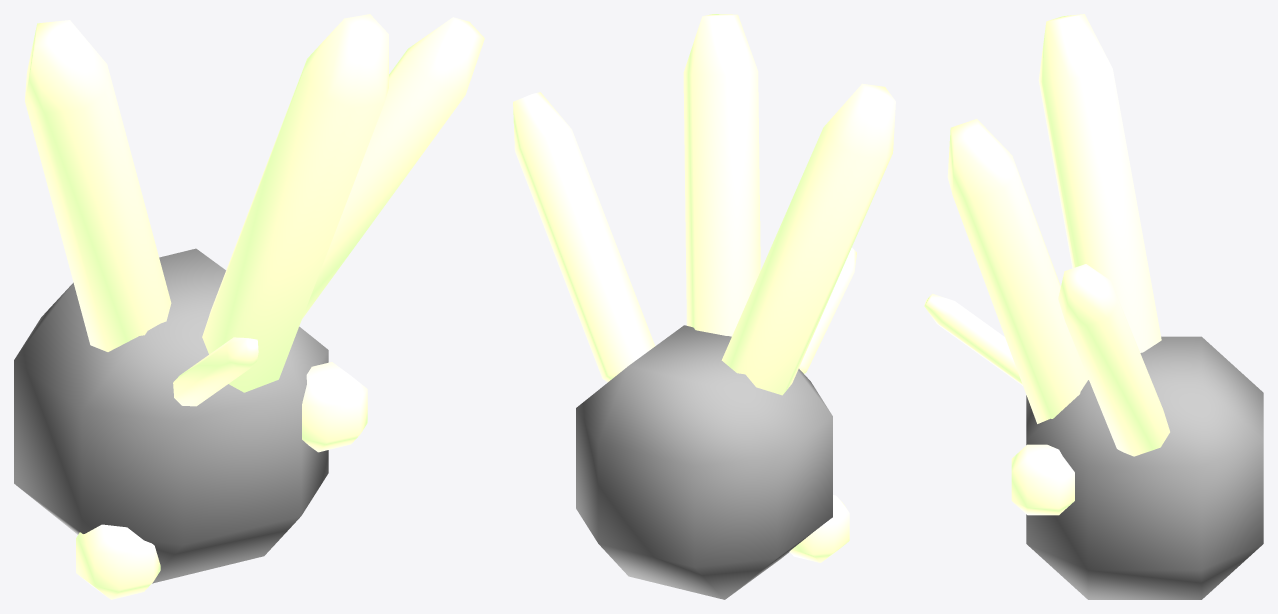
The model's file is CrystalRod02.fbx.
3 renders of one model, left to right at view 1: azimuth 30°, elevation 25°; view 2: azimuth 150°, elevation 25°; view 3: azimuth 270°, elevation 25°, orthographic. The views are drawn at different scales.
Visible parts, largest first — view 1: Crystal3, Crys_Rod2, Crys_Rod1, Crys_Rod3, Crys_Rod6, Crys_Rod5, Crys_Rod4; view 2: Crystal3, Crys_Rod1, Crys_Rod2, Crys_Rod3, Crys_Rod6, Crys_Rod4; view 3: Crystal3, Crys_Rod1, Crys_Rod2, Crys_Rod3, Crys_Rod5, Crys_Rod4.
Part boxes in pixels (x1,y1,x2,y2): Crystal3: [14, 248, 328, 583]; Crys_Rod2: [202, 14, 388, 392]; Crys_Rod1: [25, 20, 171, 351]; Crys_Rod3: [302, 17, 484, 318]; Crys_Rod6: [76, 524, 160, 599]; Crys_Rod5: [302, 362, 367, 452]; Crys_Rod4: [173, 337, 258, 406]; Crystal3: [576, 325, 832, 599]; Crys_Rod1: [721, 83, 895, 395]; Crys_Rod2: [683, 14, 760, 336]; Crys_Rod3: [513, 92, 654, 382]; Crys_Rod6: [789, 495, 849, 562]; Crys_Rod4: [799, 247, 856, 373]; Crystal3: [1026, 336, 1263, 599]; Crys_Rod1: [1038, 14, 1161, 352]; Crys_Rod2: [947, 119, 1088, 423]; Crys_Rod3: [1058, 264, 1169, 456]; Crys_Rod5: [1011, 444, 1074, 515]; Crys_Rod4: [924, 293, 1022, 385].
Size of the model in its own units: 115 by 144 by 89.25.
